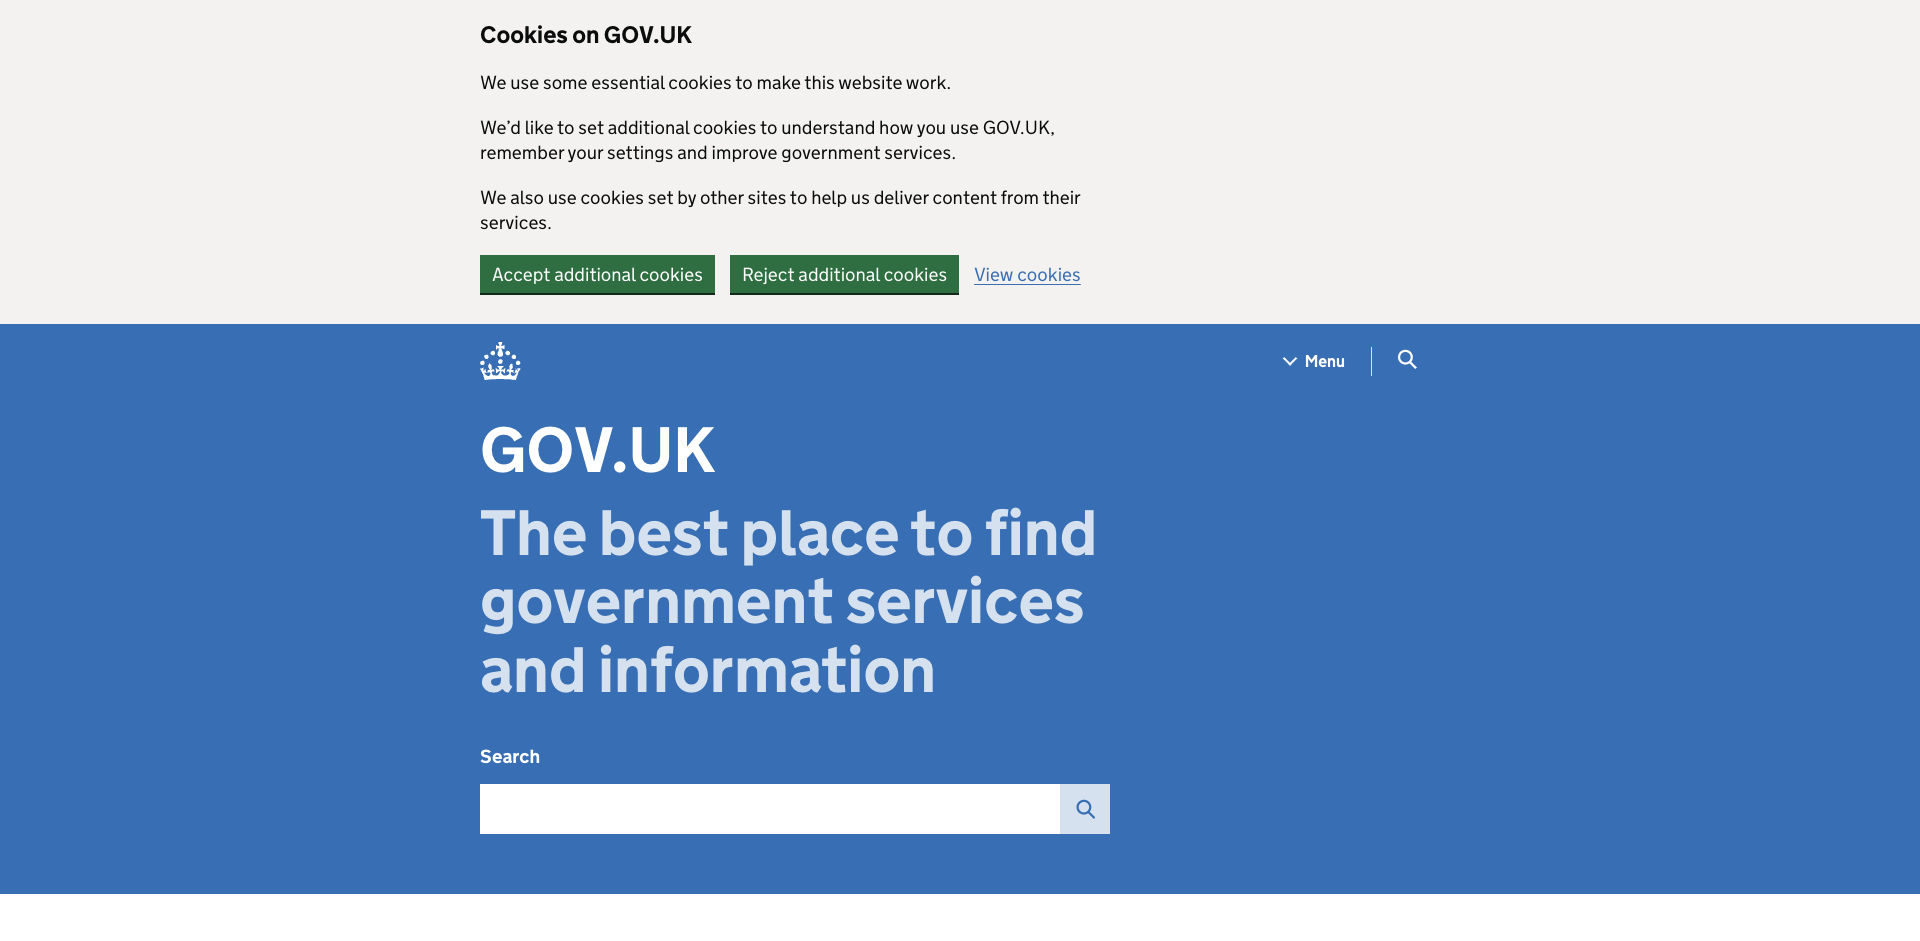button: (480, 255, 1455, 310), (1256, 325, 1440, 397), (480, 255, 715, 293), (730, 255, 959, 293), (1256, 325, 1371, 397), (1371, 325, 1440, 397), (1256, 347, 1371, 375), (1060, 784, 1109, 834), (1396, 349, 1417, 369)
input: (480, 784, 1060, 834)
label: (480, 744, 1109, 769)
link: (975, 265, 1081, 284), (480, 338, 520, 375), (0, 325, 1, 326)
